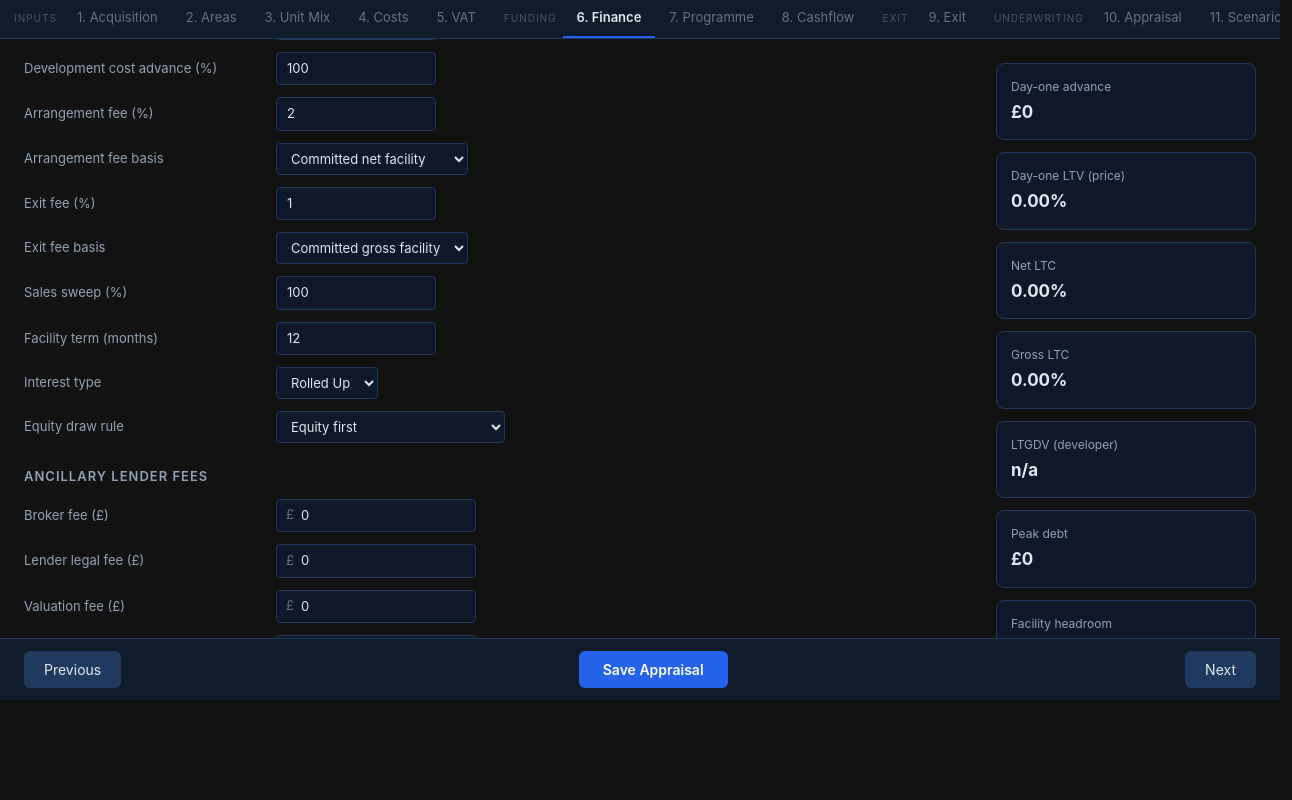
Test: ConversionCalculator — addresses (spec §26.5) › keeps unsaved edits when the page changes through the URL (decision 3)
(page scrolled)
Replace the text in the number field showing "12" next to "Facility term (months)" with "18" at (356, 338), box [276,322,436,355]
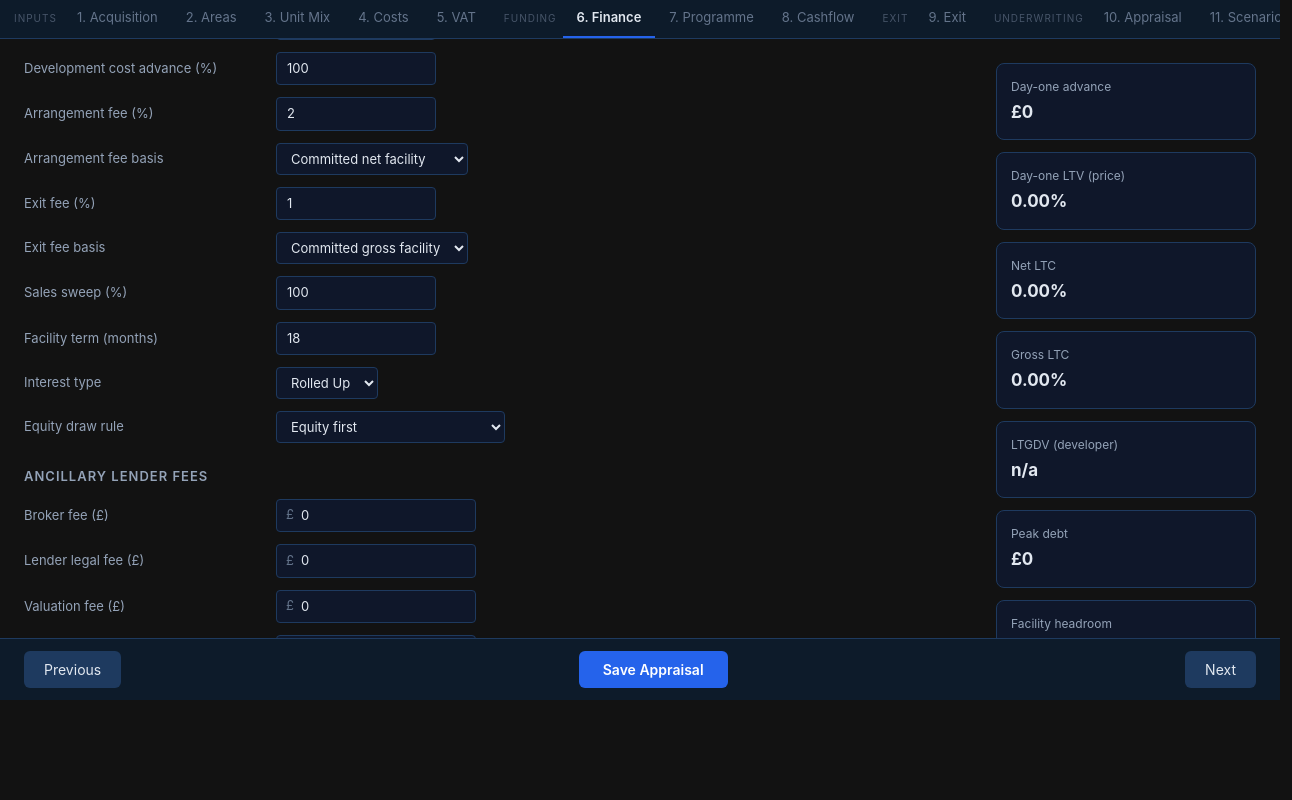
Click the link "10. Appraisal" at (1143, 17), box [1104,9,1182,25]
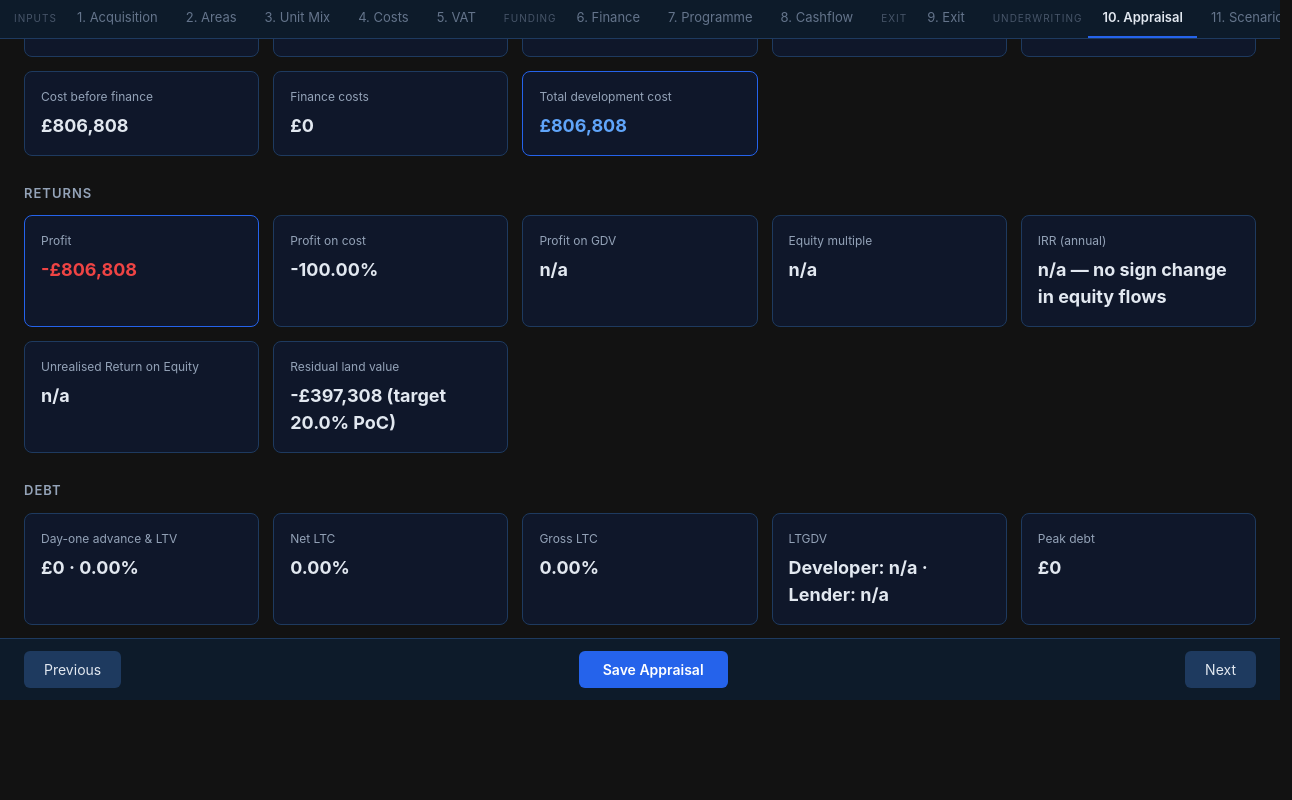
Click the link "6. Finance" at (608, 17), box [577,9,640,25]
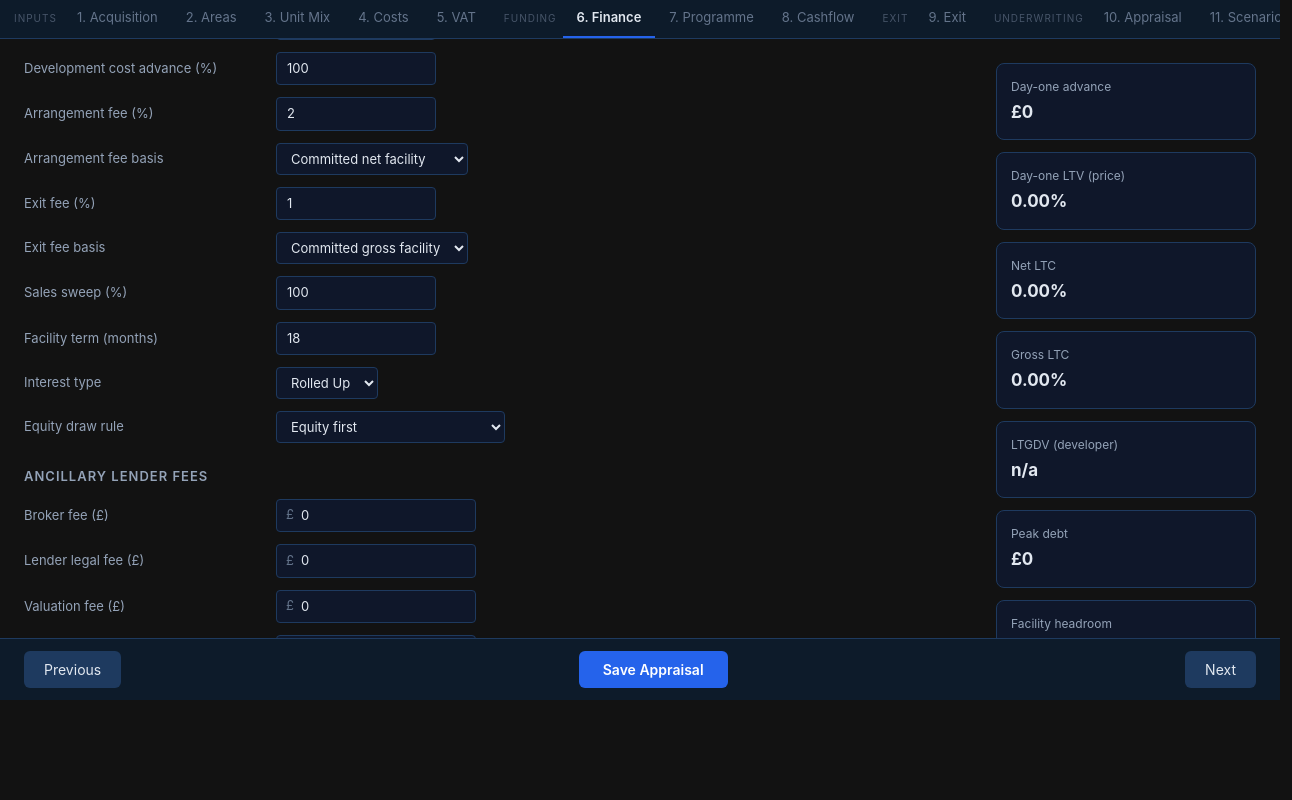
Expected: the number field showing "18" next to "Facility term (months)" is shown, [276,322,436,355]
